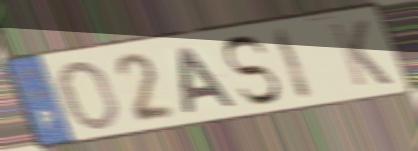2: (114, 51, 179, 126)
A: (178, 44, 241, 116)
I: (270, 25, 318, 103)
K: (326, 18, 396, 90)
O: (58, 58, 124, 133)
S: (221, 33, 284, 108)
